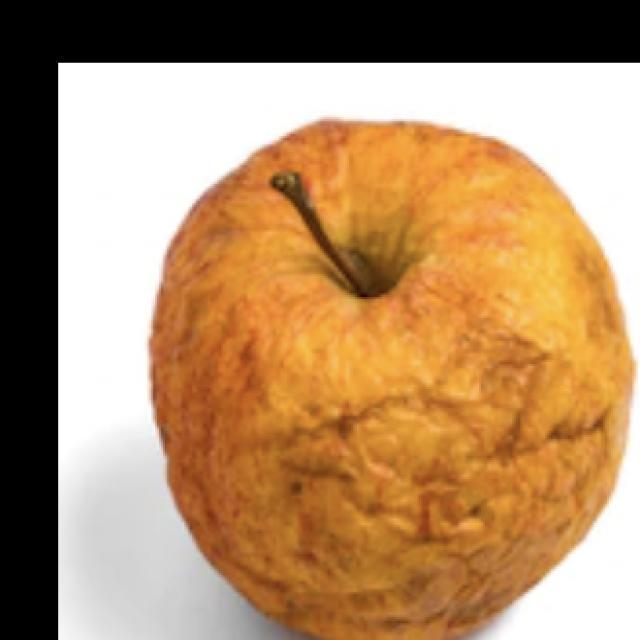Rotten: (158, 120, 630, 640)
